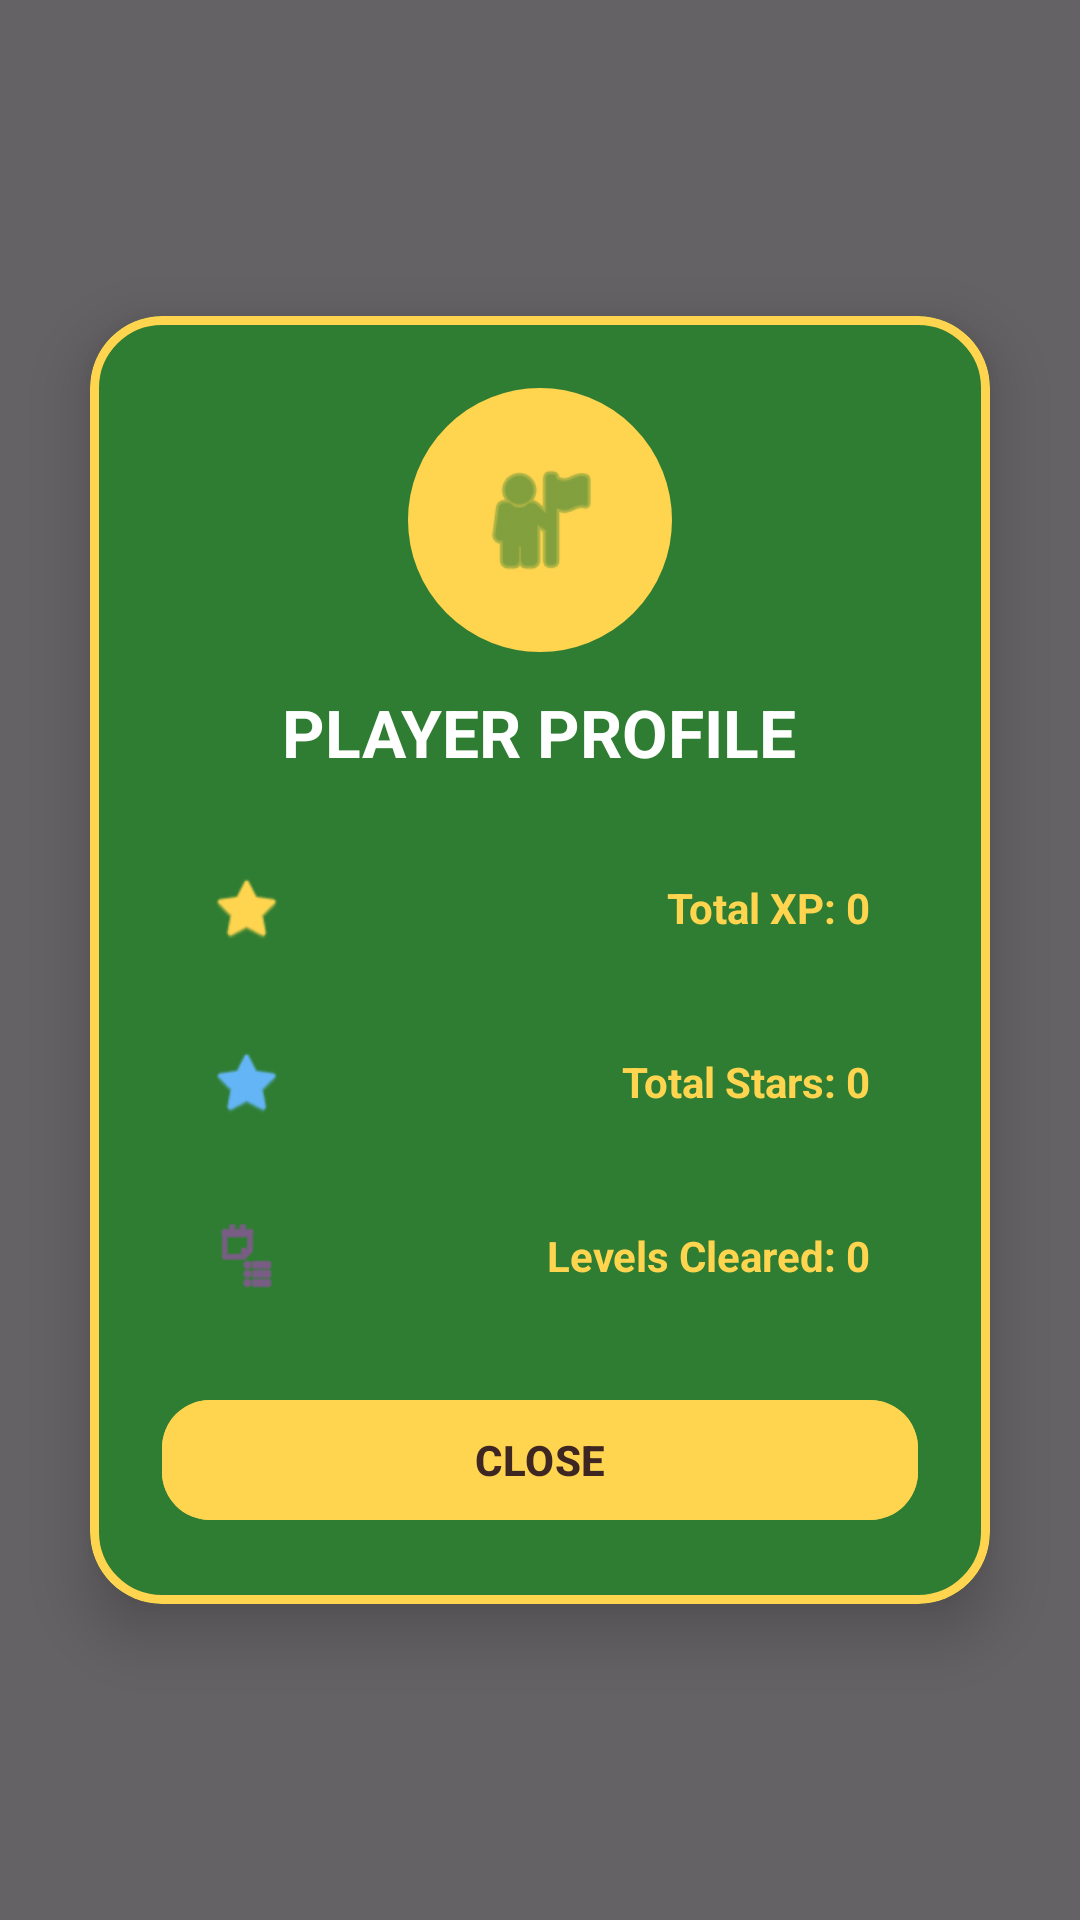

Icon click points for this 1080w x 1920h phone screenshot, format (x=x, y=y):
agenda: (x=246, y=1256)
star on: (x=247, y=908), (x=247, y=1082)
